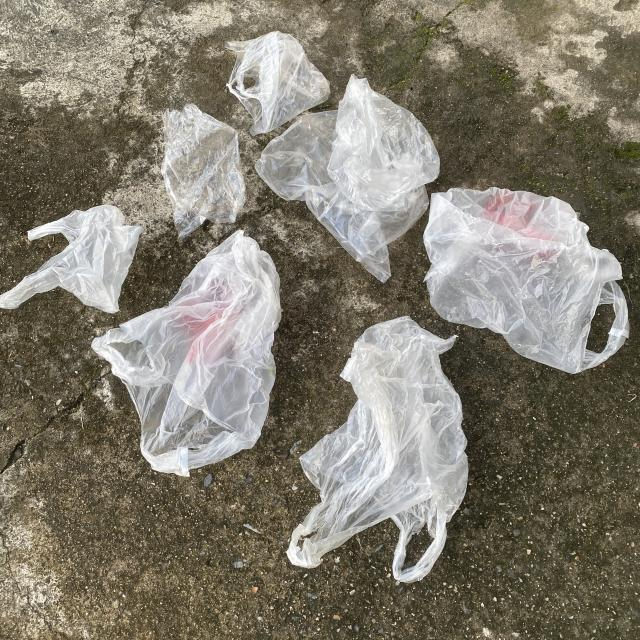Single-layer Plastic: (286, 316, 468, 582), (92, 230, 281, 476), (424, 188, 629, 374), (256, 75, 440, 281), (0, 205, 142, 312), (161, 105, 245, 238), (225, 31, 330, 135)
